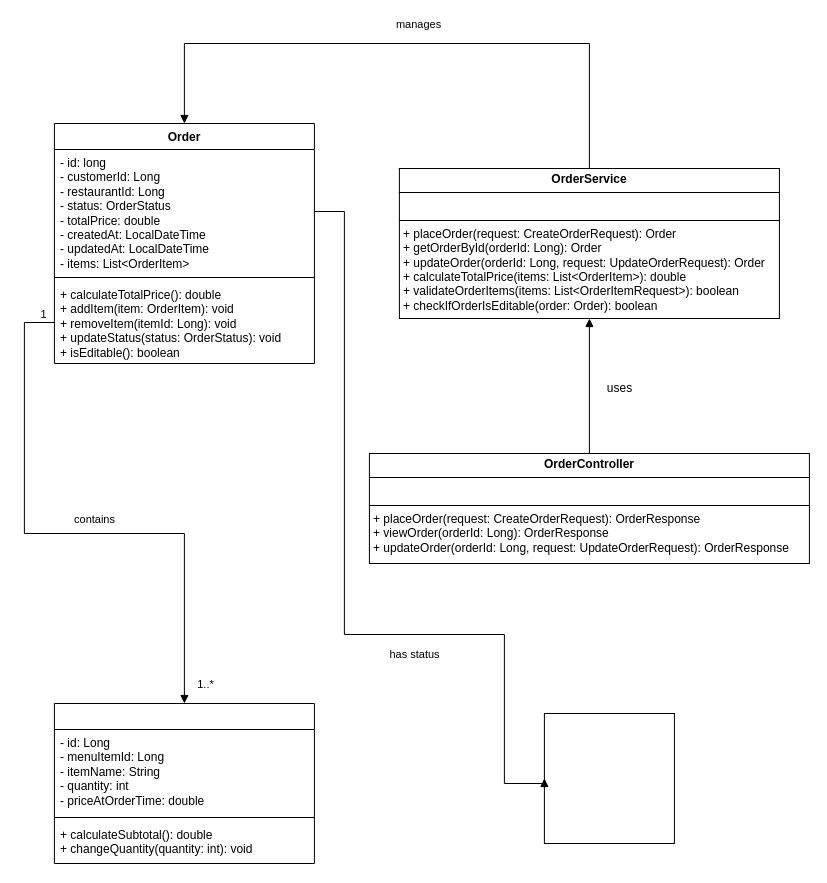
Image size: 827x883. Some labels were removed from this diagram. Here are the shapes that lost their labels. From the top down, the box of each, then its label:
(53, 702, 314, 864): OrderItem
(543, 712, 674, 844): <<enum>> OrderStatus CREATED CONFIRMED PREPARING READY COMPLETED
